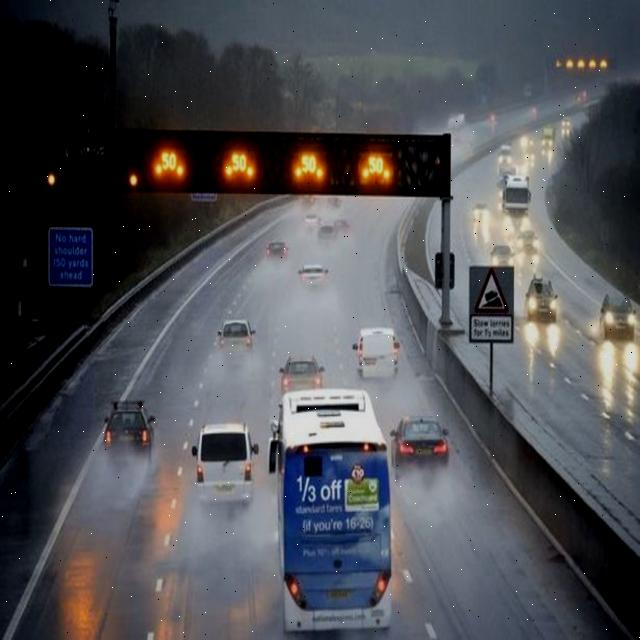Bus: (278, 388, 388, 635)
Car: (192, 419, 258, 508), (388, 414, 451, 477), (101, 398, 157, 464), (353, 326, 401, 380), (280, 354, 326, 397), (599, 291, 636, 340), (525, 274, 558, 322), (217, 319, 256, 353), (298, 264, 330, 288), (489, 244, 513, 268), (517, 228, 538, 254), (497, 144, 513, 173), (266, 240, 290, 258), (512, 209, 530, 230), (472, 202, 489, 224), (541, 125, 555, 150), (518, 134, 534, 155), (498, 166, 516, 184), (447, 114, 465, 132), (317, 223, 336, 240), (333, 218, 350, 234), (541, 140, 554, 160), (304, 213, 321, 228), (560, 116, 572, 137), (525, 144, 536, 165), (301, 195, 317, 207), (575, 89, 587, 104), (523, 83, 533, 101), (330, 196, 342, 208), (488, 112, 497, 127), (530, 106, 537, 121)
Truck: (501, 173, 532, 214)
